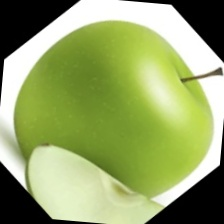apple: (9, 31, 171, 170)
